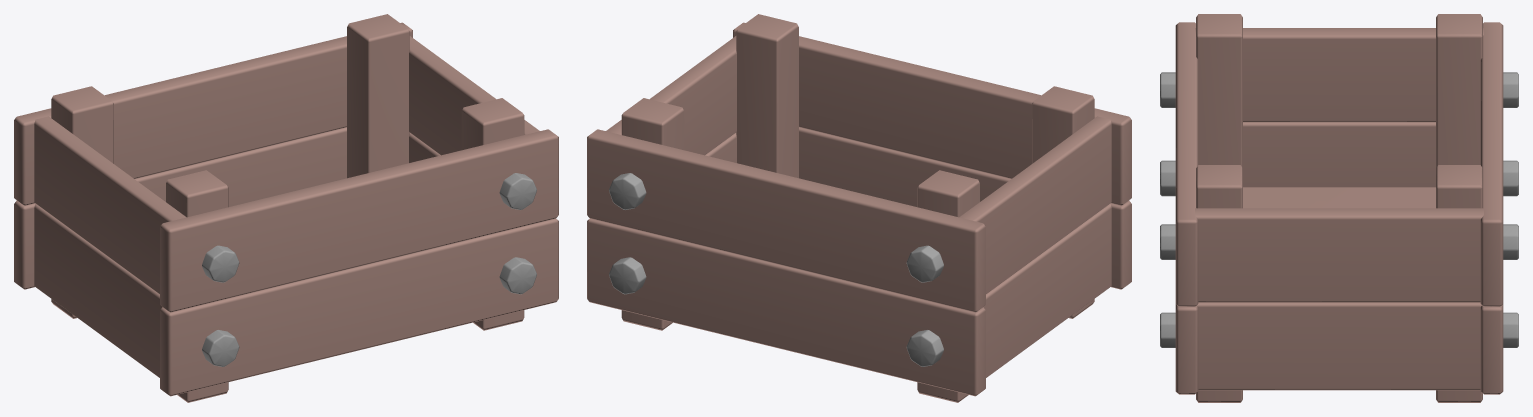
Rendered from Farm_1_Box_1.glb.
3 views of the same model, side by side, from view 1: azimuth 30°, elevation 25°; view 2: azimuth 150°, elevation 25°; view 3: azimuth 270°, elevation 25° (orthographic). The views are drawn at different scales.
Parts seen in each view (by area): view 1: Farm_1_Box_1; view 2: Farm_1_Box_1; view 3: Farm_1_Box_1.
Boxes of the visible parts, x1,y1,x2,y2 form: Farm_1_Box_1: (14,14,558,402); Farm_1_Box_1: (587,14,1131,402); Farm_1_Box_1: (1160,14,1518,402).
Bounding box in the file's own units: 0.8404 × 0.4282 × 0.6381.
Materials: 1 (1 with a texture image).
